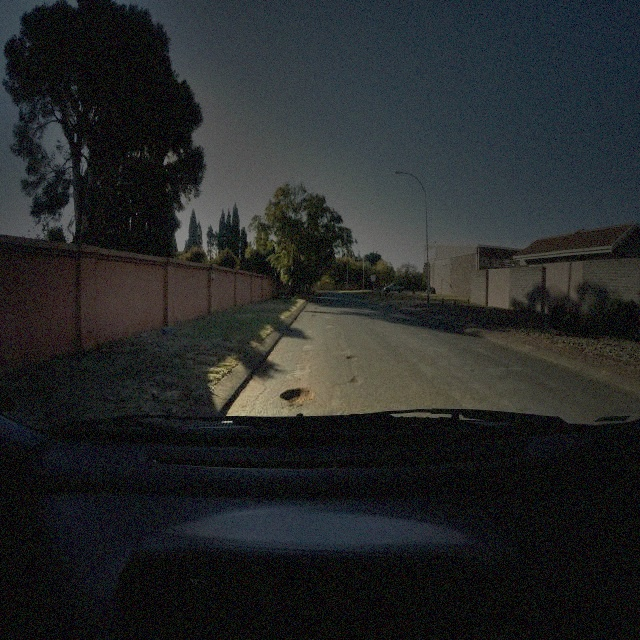pothole: (278, 385, 317, 405), (348, 374, 366, 387), (344, 353, 359, 363), (311, 312, 319, 318)
